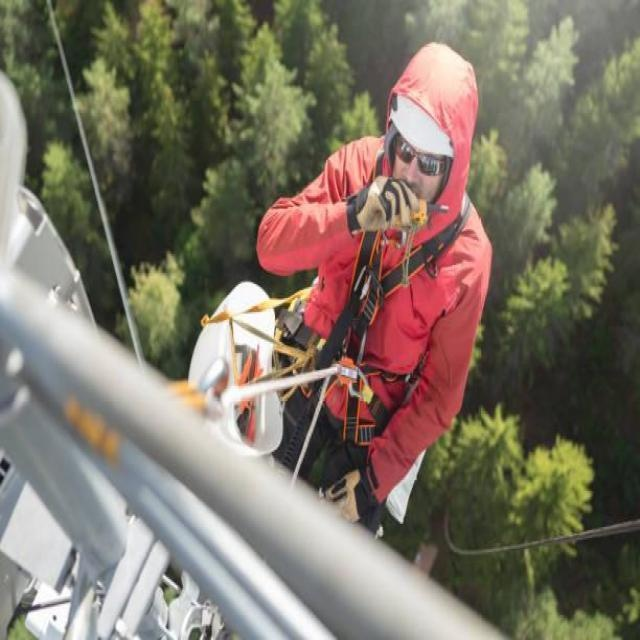Arnes_seguridad: (323, 131, 473, 430)
